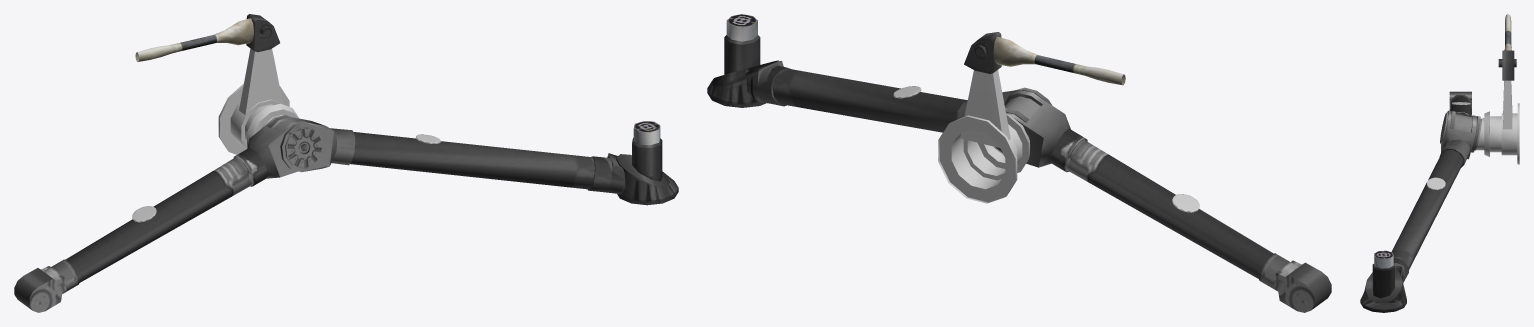
File: Body_RockerRight.dae
3 views of the same model, side by side, from view 1: azimuth 30°, elevation 25°; view 2: azimuth 150°, elevation 25°; view 3: azimuth 270°, elevation 25° (orthographic). The views are drawn at different scales.
Visible parts, largest first — view 1: suspension_arm_F_R, suspension_arm_B_R, suspension_axel_R, suspension_rod_R, suspension_axel_R2; view 2: suspension_arm_B_R, suspension_arm_F_R, suspension_axel_R, suspension_rod_R, suspension_axel_R2; view 3: suspension_arm_F_R, suspension_axel_R, suspension_arm_B_R, suspension_rod_R, suspension_axel_R2.
Part boxes in pixels (left/top/right/bottom): suspension_arm_F_R: left=268, top=116, right=678, bottom=205; suspension_arm_B_R: left=14, top=115, right=306, bottom=312; suspension_axel_R: left=218, top=48, right=299, bottom=154; suspension_rod_R: left=135, top=14, right=279, bottom=61; suspension_axel_R2: left=273, top=120, right=323, bottom=168; suspension_arm_B_R: left=995, top=90, right=1331, bottom=312; suspension_arm_F_R: left=707, top=14, right=1051, bottom=132; suspension_axel_R: left=938, top=70, right=1029, bottom=203; suspension_rod_R: left=964, top=32, right=1125, bottom=85; suspension_axel_R2: left=993, top=96, right=1040, bottom=154; suspension_arm_F_R: left=1360, top=110, right=1476, bottom=312; suspension_axel_R: left=1476, top=80, right=1519, bottom=164; suspension_arm_B_R: left=1449, top=91, right=1480, bottom=152; suspension_rod_R: left=1498, top=14, right=1516, bottom=80; suspension_axel_R2: left=1440, top=112, right=1481, bottom=150.
Size of the model in its own units: 1.75 by 0.5425 by 0.5714.
3 materials, 1 textured.
